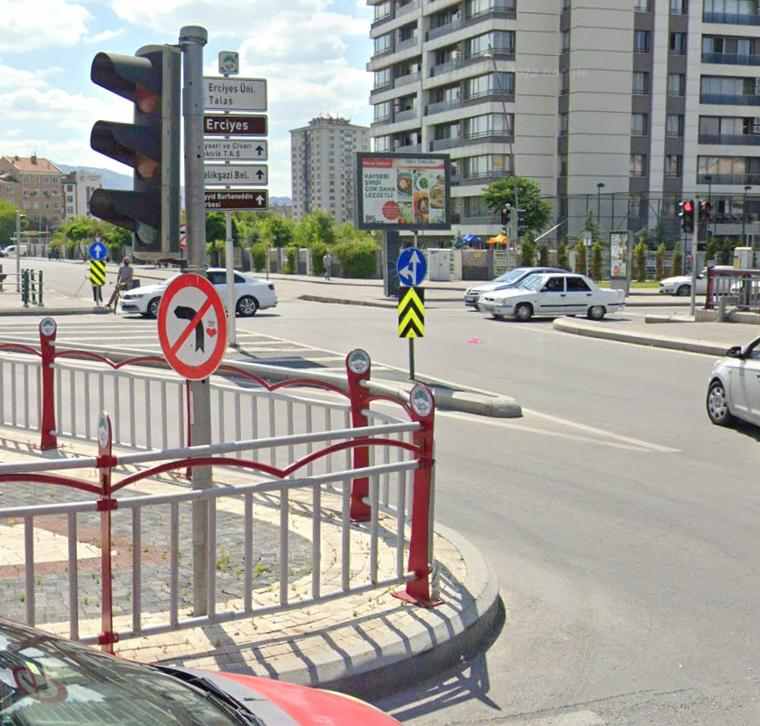forward: (89, 242, 106, 260)
leftturnsareforbidden: (159, 275, 224, 377)
